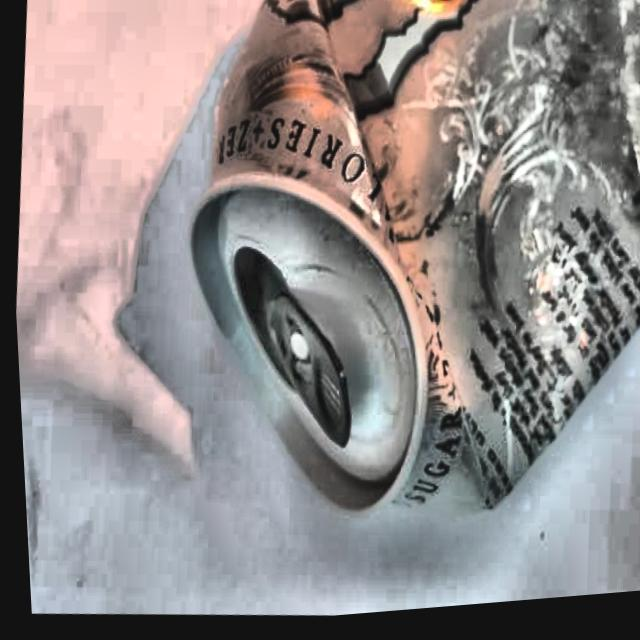Cans: (140, 0, 640, 582)
